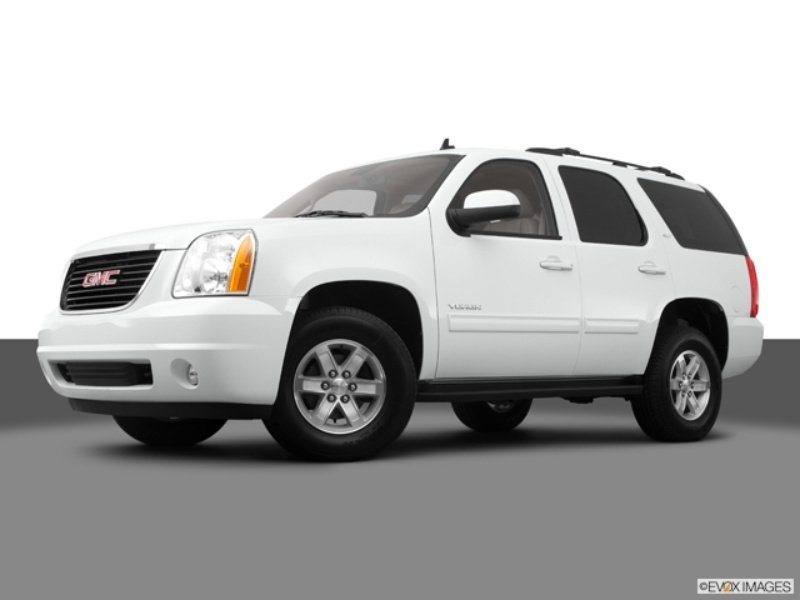normalcar: (18, 125, 765, 484)
